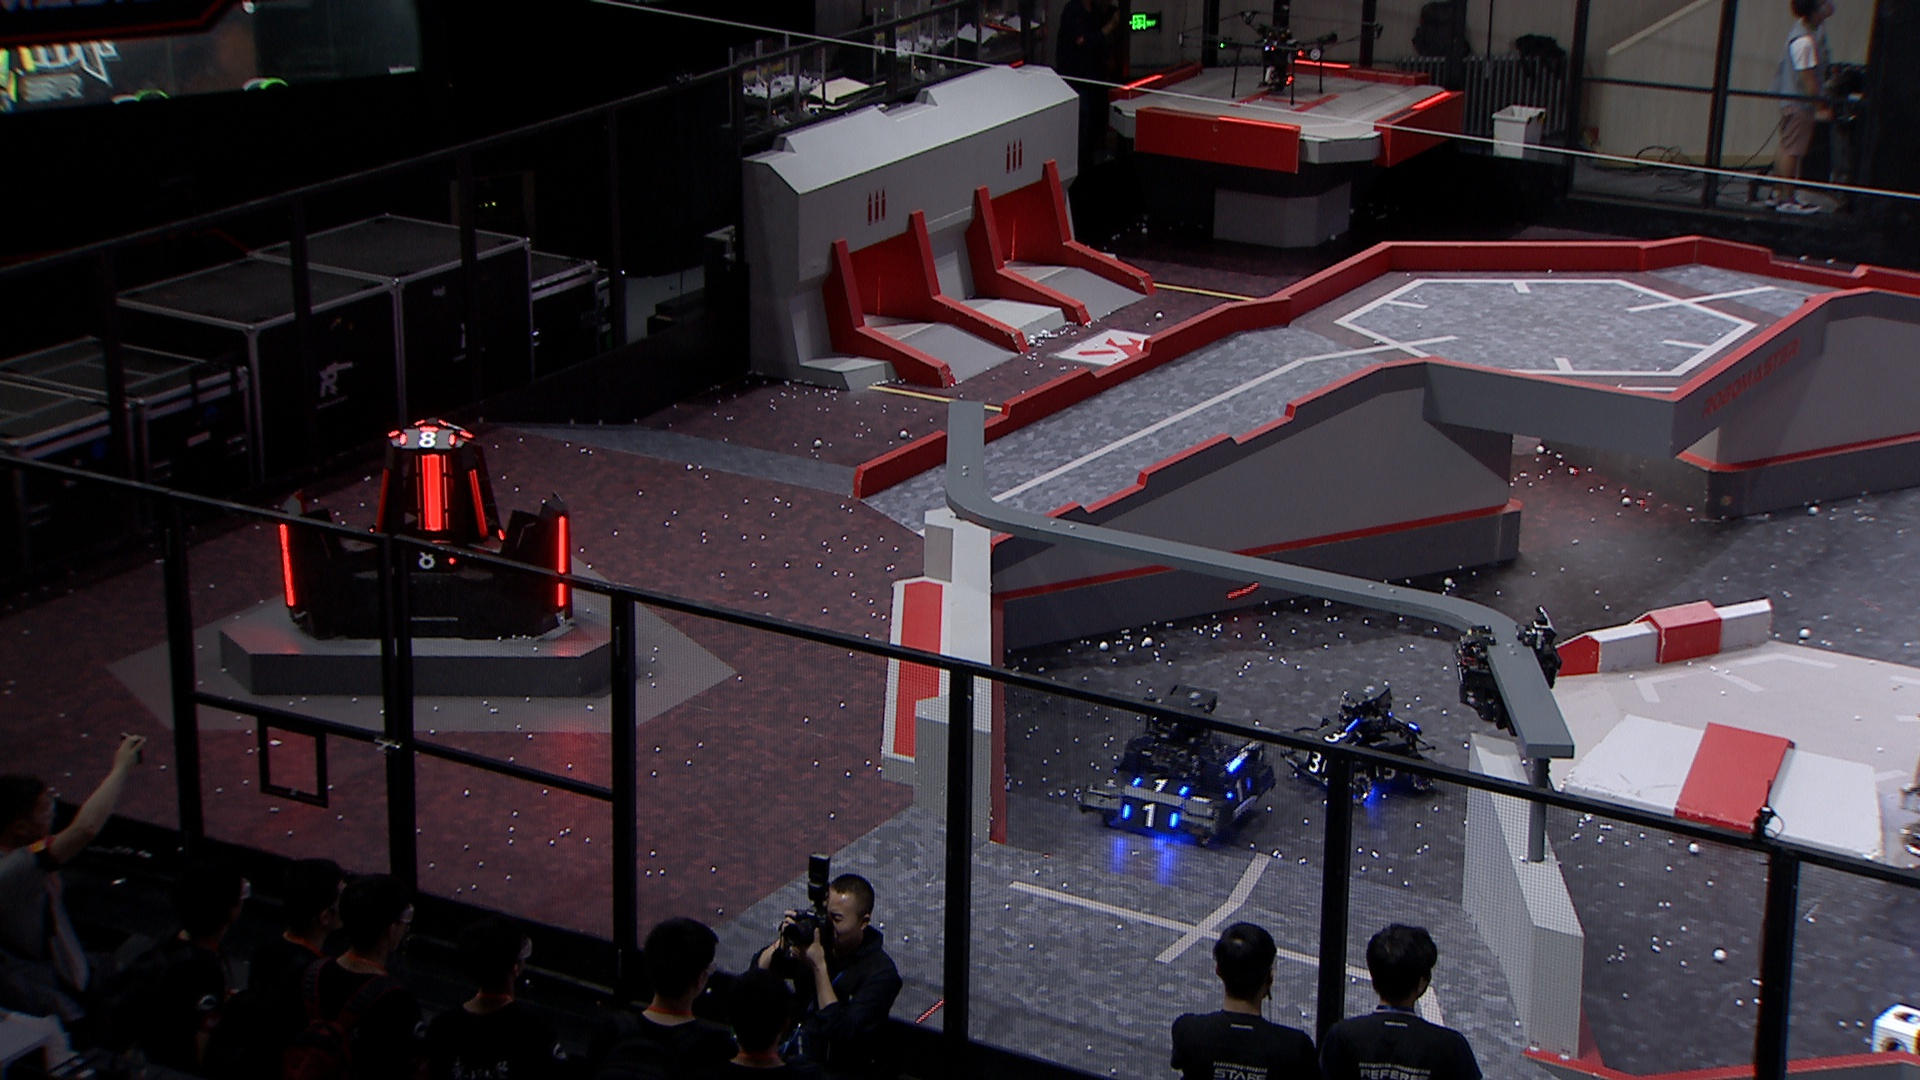armor: (417, 455, 451, 541), (1116, 798, 1185, 833), (367, 462, 394, 531), (465, 465, 493, 535), (278, 522, 301, 608), (1129, 771, 1192, 799), (551, 516, 570, 605), (401, 545, 458, 574), (394, 429, 456, 454), (1313, 717, 1360, 749), (1224, 769, 1257, 807), (1373, 752, 1410, 782), (1298, 746, 1333, 774)
base: (278, 413, 572, 637)
car: (1079, 678, 1280, 847), (1291, 675, 1441, 803)
watcher: (1453, 604, 1564, 740)
